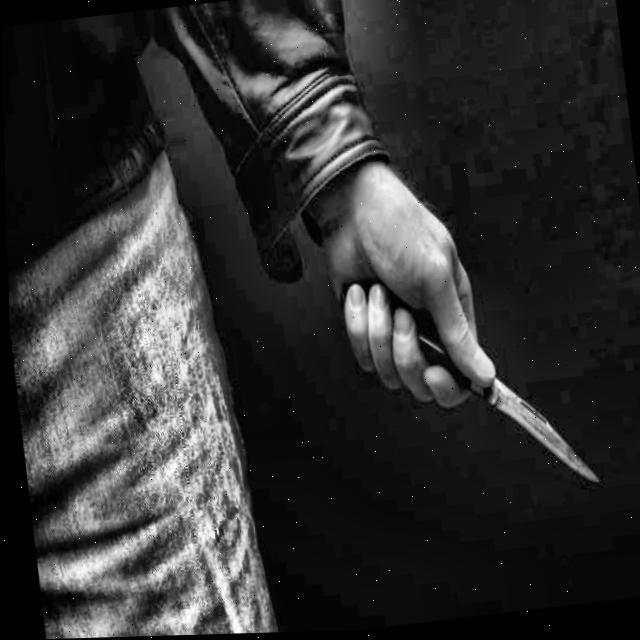pisau: (323, 240, 609, 552)
